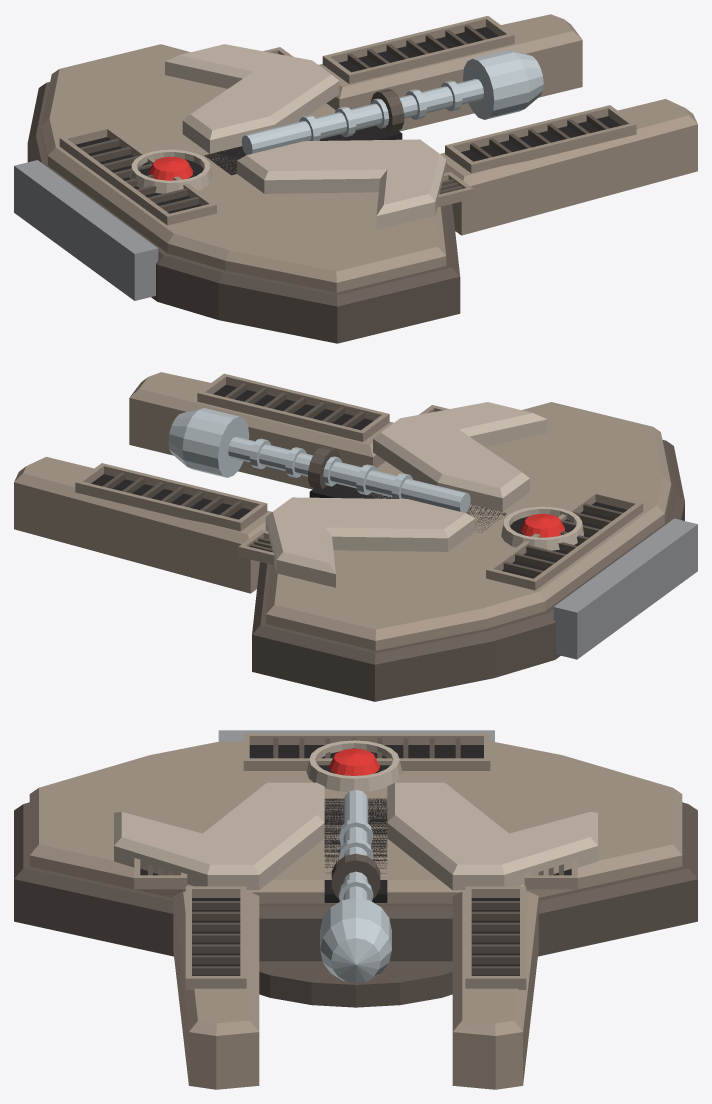
The model's file is vge_mgun_charge_battery.obj.
The picture shows the model from 3 angles, top to bottom: view 1: azimuth 30°, elevation 25°; view 2: azimuth 150°, elevation 25°; view 3: azimuth 270°, elevation 25°; orthographic projection. The views are drawn at different scales.
Parts seen in each view (by area): view 1: vge_mgun_charge_battery_4, vge_mgun_charge_battery_1, vge_mgun_charge_battery_15, vge_mgun_charge_battery_67, vge_mgun_charge_battery_6, vge_mgun_charge_battery_30, vge_mgun_charge_battery_2, vge_mgun_charge_battery_3, vge_mgun_charge_battery_39, vge_mgun_charge_battery_40, vge_mgun_charge_battery_71, vge_mgun_charge_battery_78 (+17 smaller); view 2: vge_mgun_charge_battery_4, vge_mgun_charge_battery_1, vge_mgun_charge_battery_39, vge_mgun_charge_battery_67, vge_mgun_charge_battery_30, vge_mgun_charge_battery_6, vge_mgun_charge_battery_2, vge_mgun_charge_battery_3, vge_mgun_charge_battery_15, vge_mgun_charge_battery_16, vge_mgun_charge_battery_71, vge_mgun_charge_battery_78 (+17 smaller); view 3: vge_mgun_charge_battery_4, vge_mgun_charge_battery_1, vge_mgun_charge_battery_6, vge_mgun_charge_battery_30, vge_mgun_charge_battery_2, vge_mgun_charge_battery_0, vge_mgun_charge_battery_16, vge_mgun_charge_battery_40, vge_mgun_charge_battery_78, vge_mgun_charge_battery_15, vge_mgun_charge_battery_39, vge_mgun_charge_battery_3 (+23 smaller).
Part boxes in pixels (x1,y1,x2,y2): vge_mgun_charge_battery_4: (41,44,445,282); vge_mgun_charge_battery_1: (27,144,460,343); vge_mgun_charge_battery_15: (452,124,697,235); vge_mgun_charge_battery_67: (14,160,158,300); vge_mgun_charge_battery_6: (237,139,446,215); vge_mgun_charge_battery_30: (165,44,338,140); vge_mgun_charge_battery_2: (27,82,459,306); vge_mgun_charge_battery_3: (41,127,446,292); vge_mgun_charge_battery_39: (326,40,582,131); vge_mgun_charge_battery_40: (318,14,582,99); vge_mgun_charge_battery_71: (241,79,483,154); vge_mgun_charge_battery_78: (463,50,543,119); vge_mgun_charge_battery_4: (266,402,671,640); vge_mgun_charge_battery_1: (252,502,684,701); vge_mgun_charge_battery_39: (14,482,259,593); vge_mgun_charge_battery_67: (553,518,697,659); vge_mgun_charge_battery_30: (265,497,474,573); vge_mgun_charge_battery_6: (373,402,546,498); vge_mgun_charge_battery_2: (252,439,684,664); vge_mgun_charge_battery_3: (266,485,671,650); vge_mgun_charge_battery_15: (129,398,385,489); vge_mgun_charge_battery_16: (129,372,393,457); vge_mgun_charge_battery_71: (228,436,470,512); vge_mgun_charge_battery_78: (168,408,249,477); vge_mgun_charge_battery_4: (29,741,682,892); vge_mgun_charge_battery_1: (14,879,697,961); vge_mgun_charge_battery_6: (114,782,324,874); vge_mgun_charge_battery_30: (387,782,597,874); vge_mgun_charge_battery_2: (14,802,697,918); vge_mgun_charge_battery_0: (259,961,452,1007); vge_mgun_charge_battery_16: (173,891,259,1035); vge_mgun_charge_battery_40: (452,891,538,1035); vge_mgun_charge_battery_78: (320,898,391,983); vge_mgun_charge_battery_15: (173,898,259,1089); vge_mgun_charge_battery_39: (452,898,538,1089); vge_mgun_charge_battery_3: (29,855,682,903).
Bounding box in the file's own units: 4.72 × 0.99 × 4.38.
